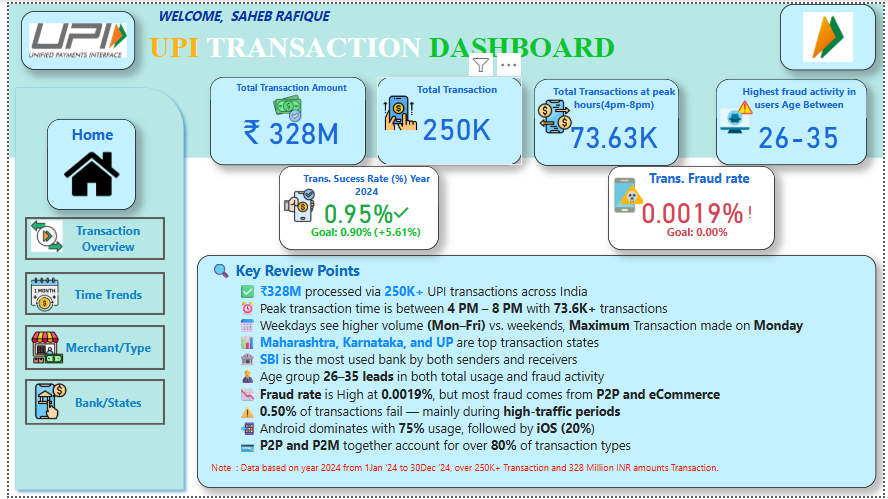

The dashboard page shown, as its layout file describes it:
{"tool":"powerbi","page":{"name":"Home","canvas":[1280,720],"ordinal":0},"visuals":[{"type":"textbox","box":[0,0,1280,225.4],"z":0},{"type":"textbox","box":[212.2,0,392.2,35.1],"z":1000},{"type":"image","box":[17.6,10.2,166.8,86.3],"z":2000},{"type":"card","title":"Total Transaction Amount","fields":{"Values":["Sum(Upi.amount (INR))"]},"box":[294.1,106.8,228.3,128.8],"z":3000},{"type":"card","title":"Total Transaction","fields":{"Values":["CountNonNull(Upi.transaction id)"]},"box":[538.5,106.8,212.2,128.8],"z":4000},{"type":"image","box":[538.5,127.3,70.2,64.4],"z":5000},{"type":"image","box":[349.8,127.3,115.6,51.2],"z":6000},{"type":"shape","box":[0,112.7,264.9,607.3],"z":7000},{"type":"image","title":"Home","box":[55.6,168.3,130.2,133.2],"z":8000},{"type":"actionButton","box":[23.4,392.2,204.9,62.9],"z":9000},{"type":"actionButton","box":[23.4,311.7,204.9,62.9],"z":10000},{"type":"actionButton","title":"Marchant","box":[23.4,469.8,204.9,65.9],"z":11000},{"type":"actionButton","box":[23.4,548.8,204.9,67.3],"z":12000},{"type":"image","box":[23.4,311.7,64.4,55.6],"z":13000},{"type":"image","box":[10.2,395.1,83.4,60],"z":14000},{"type":"image","box":[23.4,474.1,64.4,57.1],"z":15000},{"type":"image","box":[29.3,541.5,64.4,80.5],"z":16000},{"type":"card","title":"Total Transactions at peak hours(4pm-8pm)","fields":{"Values":["CountNonNull(Upi.hour_of_day (groups))"]},"box":[768.3,109.8,212.2,127.3],"z":17000},{"type":"image","box":[768.3,133.2,61.5,62.9],"z":18000},{"type":"card","title":"Highest fraud activity in users Age Between","fields":{"Values":["Min(Upi.sender_age_group)"]},"box":[1034.6,109.8,221,125.9],"z":19000},{"type":"image","box":[1034.6,114.1,60,102.4],"z":20000},{"type":"textbox","title":"🔍 Key Review Points","box":[275.1,367.3,993.7,341],"z":21000},{"type":"kpi","title":"Trans. Sucess Rate (%) Year 2024","fields":{"Indicator":["Upi.Sucess Rate (%)"],"TrendLine":["Upi.timestamp.Variation.Date Hierarchy.Year"],"Goal":["Upi.Targeted Success Rate"]},"box":[395.1,237.1,234.1,122.9],"z":22000},{"type":"kpi","title":"Trans. Fraud rate ","fields":{"Indicator":["Upi.Fraud rate"],"TrendLine":["Upi.timestamp.Variation.Date Hierarchy.Year"],"Goal":["Upi.Targeted Fraud rate"]},"box":[876.6,237.1,244.4,122.9],"z":23000},{"type":"image","box":[395.1,257.6,60,74.6],"z":24000},{"type":"image","box":[876.6,247.3,61.5,64.4],"z":25000},{"type":"image","box":[1128.3,0,140.5,96.6],"z":26000}]}

Visuals, with their boxes in screenshot pixels (x1, y1, x2, y2), scaled from the page's 1280x720 canvas onto the 888x499 screenshot:
textbox: [0,0,887,156]
textbox: [147,0,419,24]
image: [12,7,128,67]
"Total Transaction Amount" card: [204,74,362,163]
"Total Transaction" card: [374,74,521,163]
image: [374,88,422,133]
image: [243,88,323,124]
shape: [0,78,184,498]
"Home" image: [39,117,129,209]
actionButton: [16,272,158,315]
actionButton: [16,216,158,260]
"Marchant" actionButton: [16,326,158,371]
actionButton: [16,380,158,427]
image: [16,216,61,255]
image: [7,274,65,315]
image: [16,329,61,368]
image: [20,375,65,431]
"Total Transactions at peak hours(4pm-8pm)" card: [533,76,680,164]
image: [533,92,576,136]
"Highest fraud activity in users Age Between" card: [718,76,871,163]
image: [718,79,759,150]
"🔍 Key Review Points" textbox: [191,255,880,491]
"Trans. Sucess Rate (%) Year 2024" kpi: [274,164,437,250]
"Trans. Fraud rate " kpi: [608,164,778,250]
image: [274,179,316,230]
image: [608,171,651,216]
image: [783,0,880,67]
